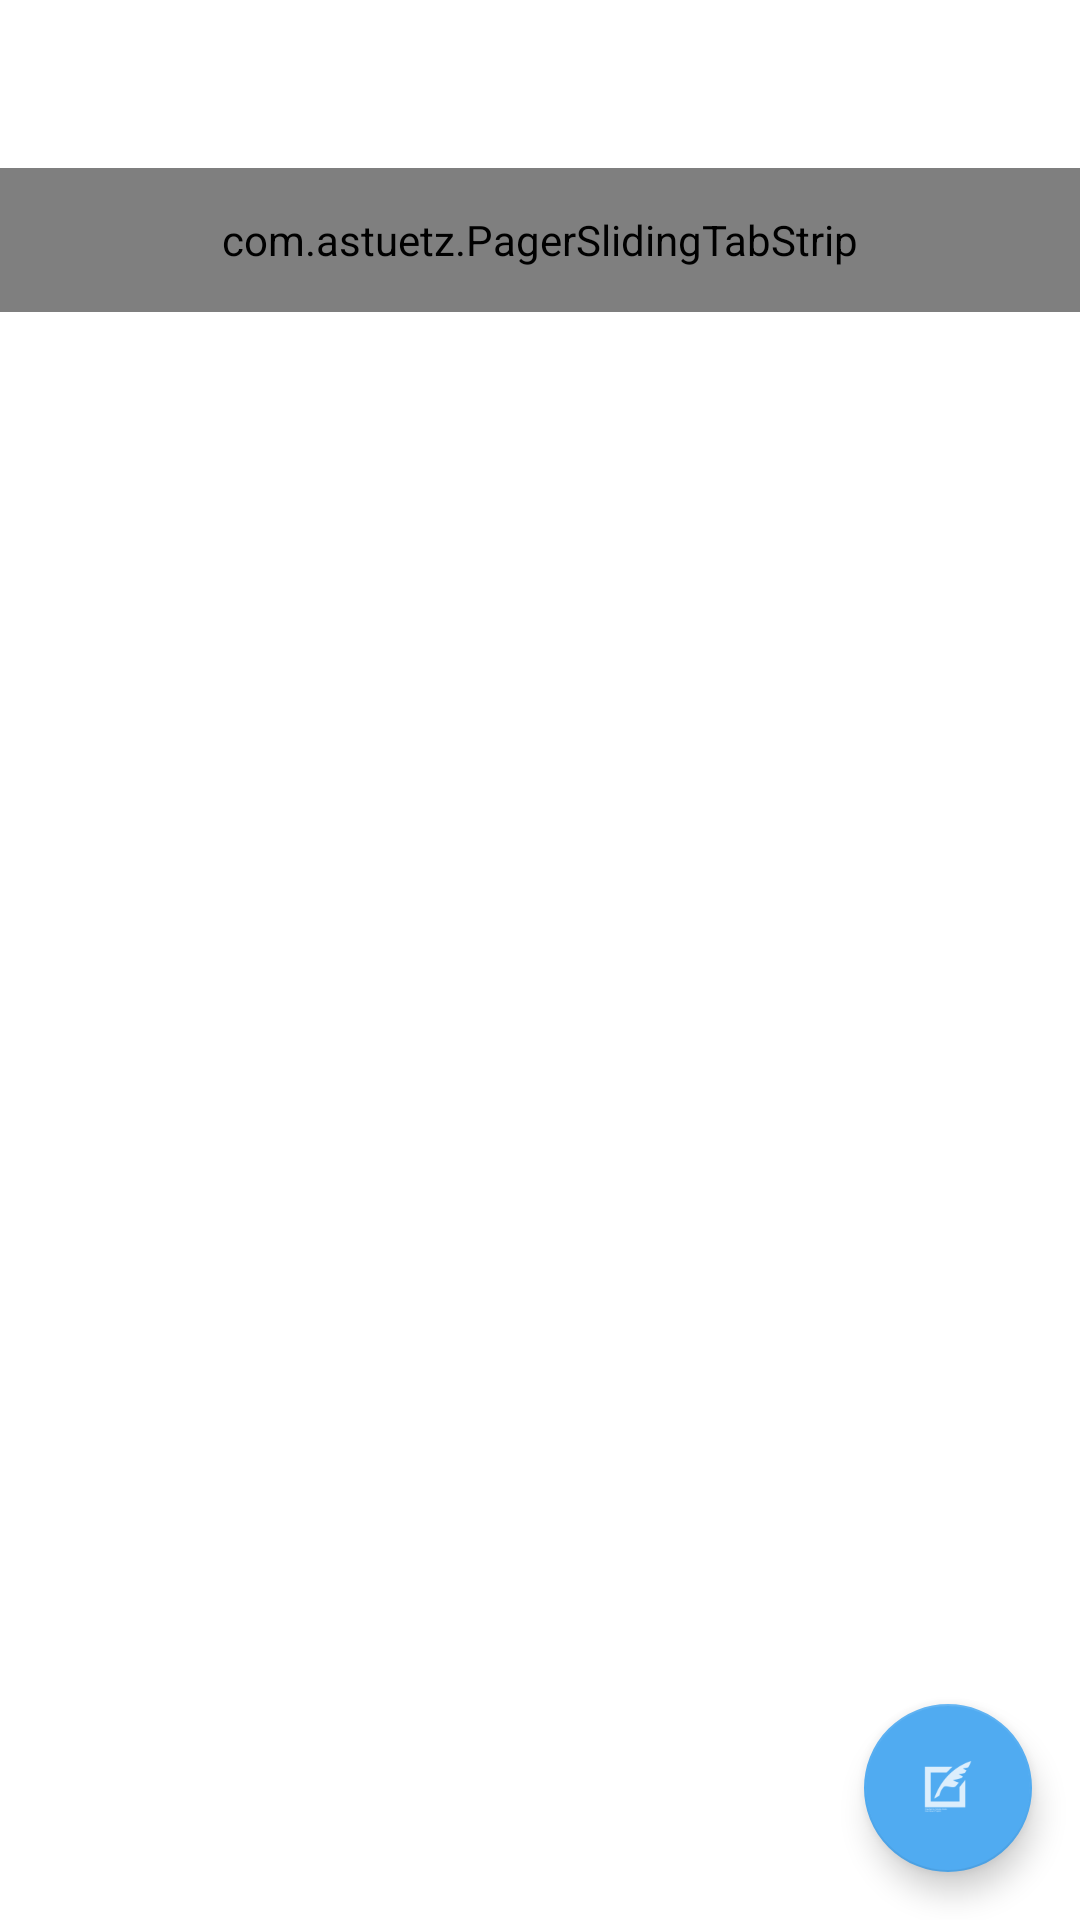

Icons on this 1080x1920 Android screen, each with its box as (x1, y1, x2, y2):
quill: (864, 1704, 1032, 1872)
